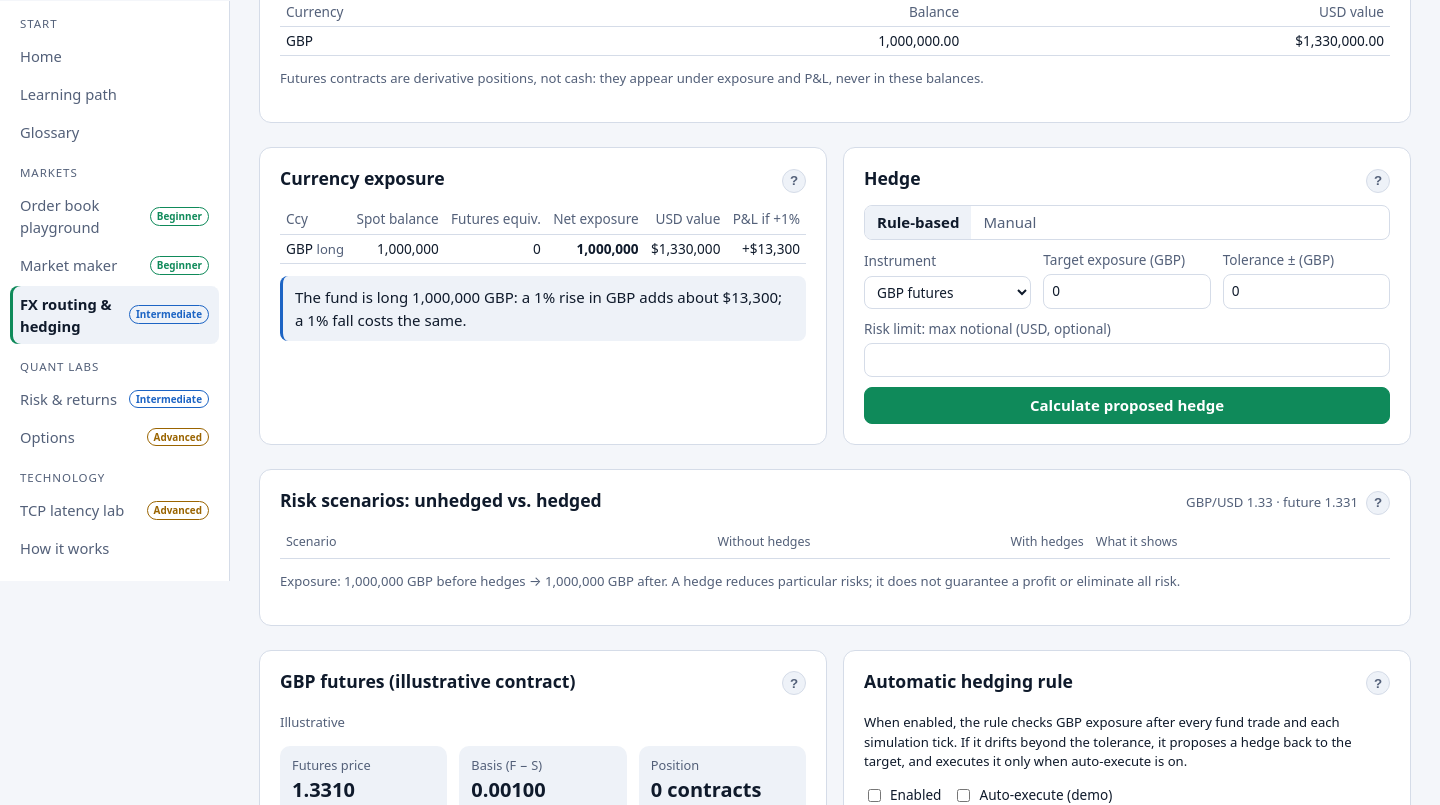
Scenario: Hedging tab › calculates a hedge proposal, shows before/after, and executes it on approval
The image size is (1440, 805).
(page scrolled)
Click the button "Calculate proposed hedge".
click(1127, 406)  # box [864,387,1390,424]
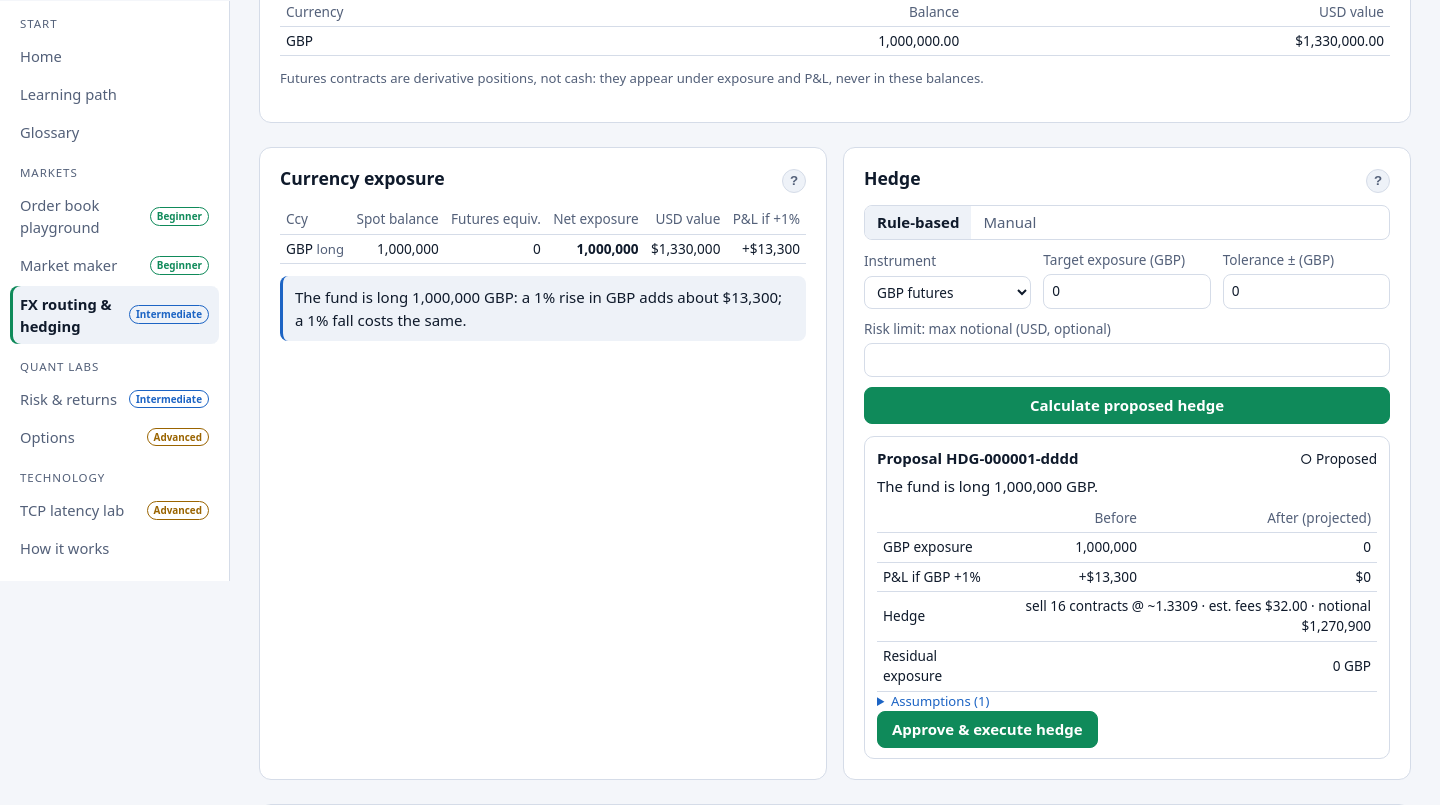
Expected: the text "The fund is long 1,000,000 GBP." is shown, [877,476,1098,496]
Expected: the text "sell 16 contracts" is shown, [993,592,1377,641]
Click the button "Approve & execute hedge".
click(987, 730)  # box [877,711,1098,748]
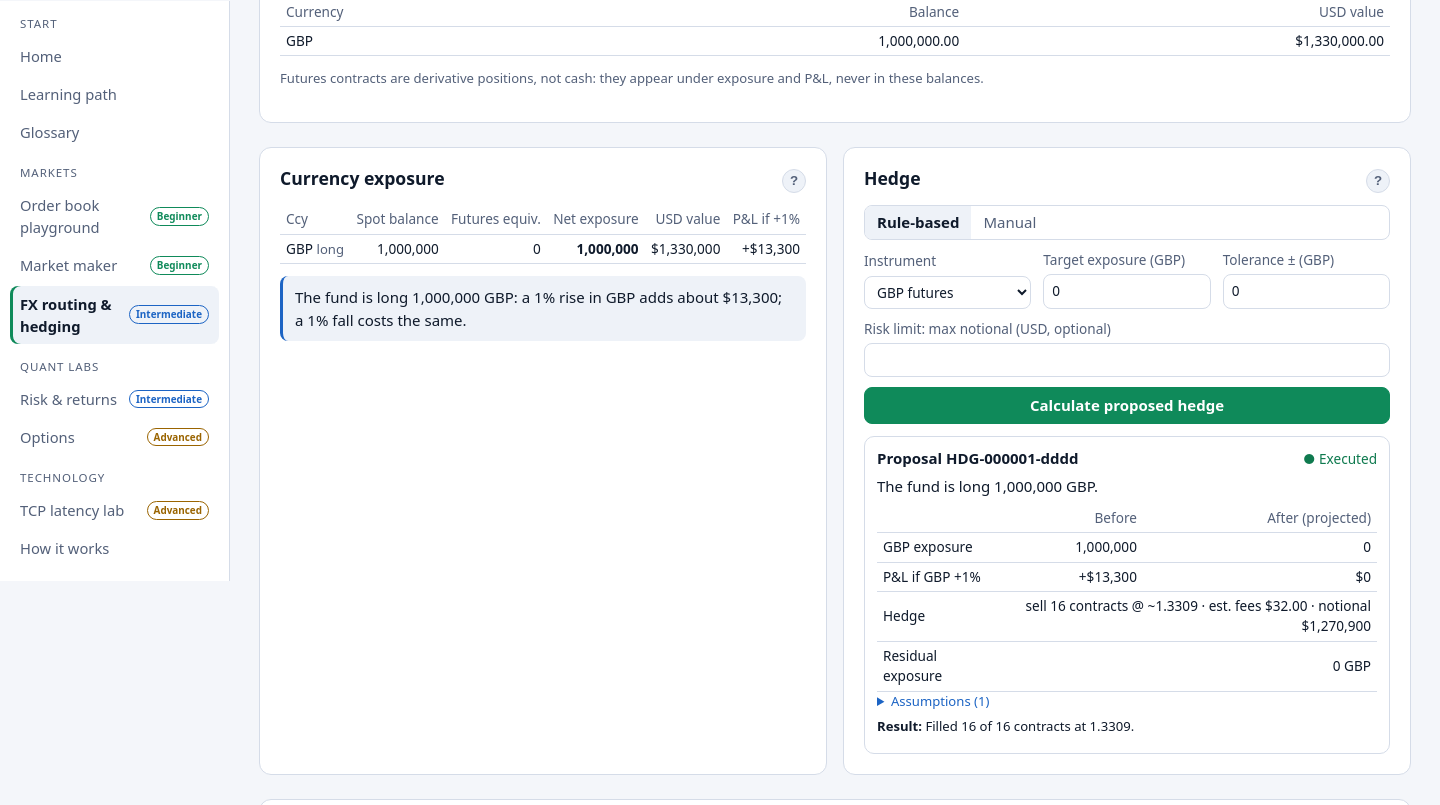
Expected: the text "Result: Filled 16 of 16 contracts at 1.3309." is shown, [877,717,1134,735]
